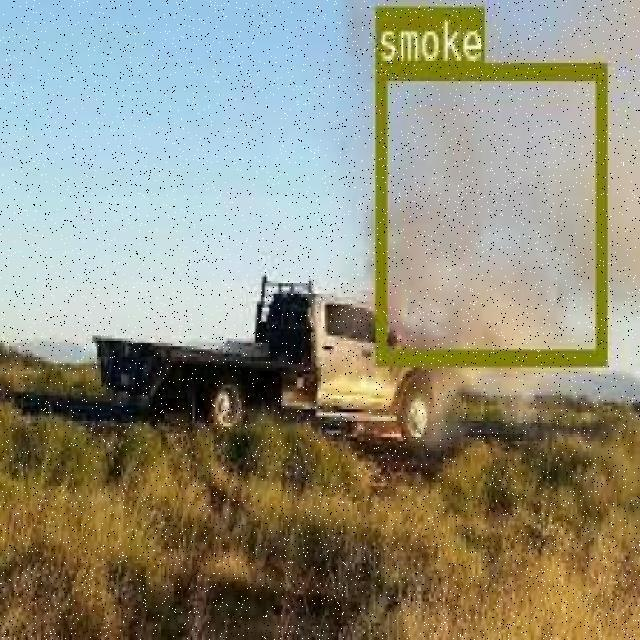Smoke: (372, 53, 605, 355)
